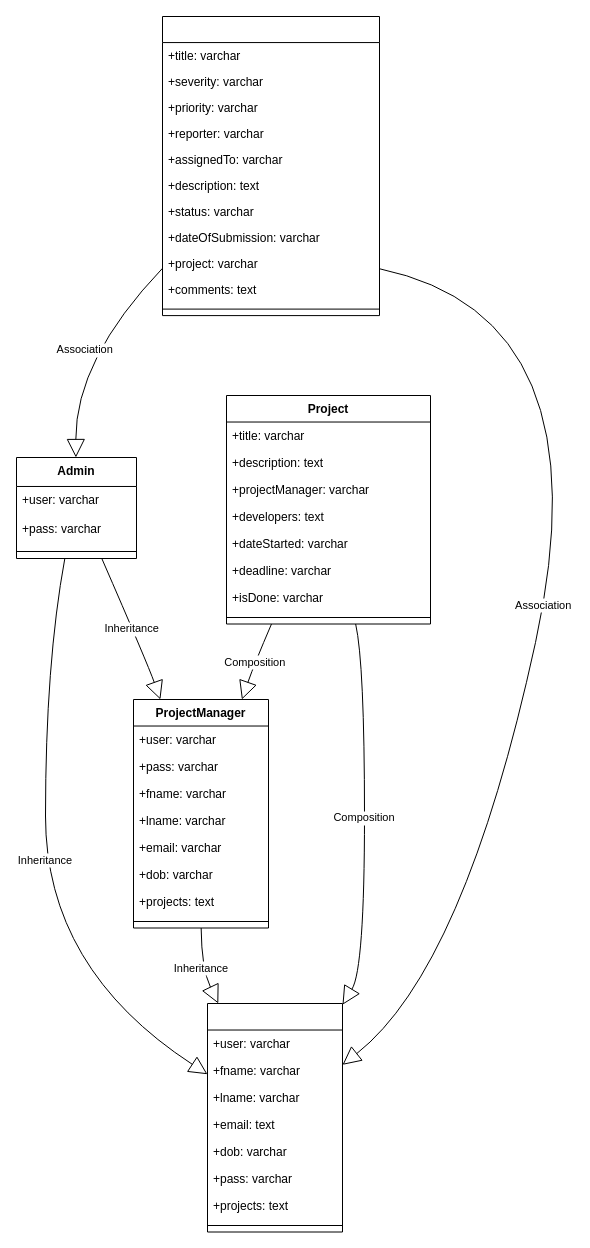
This 590x1248 diagram has some shape labels left out. Each missing label, with the box of its shape:
Bug: (162, 16, 380, 316)
Developer: (206, 1002, 342, 1232)
